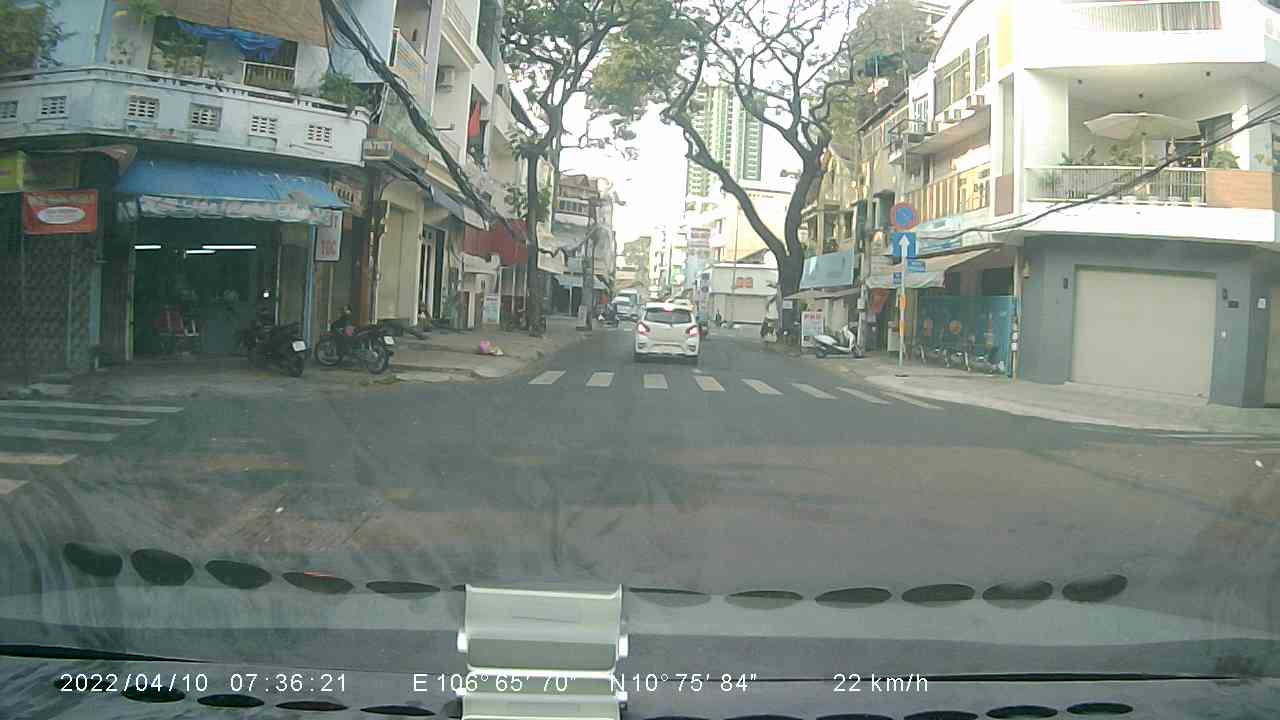Bien khac: (889, 229, 919, 261)
Cam do xe: (885, 196, 920, 232)
